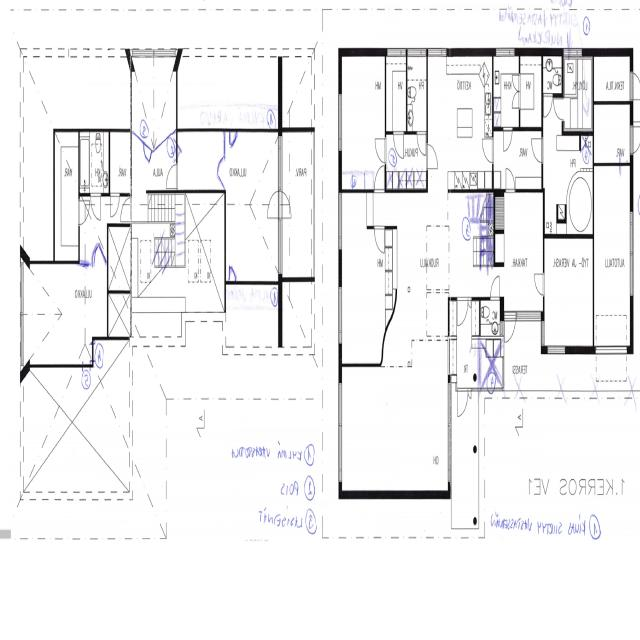door: (505, 311, 516, 348), (267, 191, 282, 218), (278, 191, 293, 218), (140, 140, 152, 172), (94, 234, 106, 264), (457, 297, 468, 326), (457, 388, 468, 416), (482, 139, 494, 163), (78, 201, 90, 225), (630, 127, 640, 154), (374, 226, 384, 253), (90, 193, 100, 220), (532, 138, 543, 162), (375, 138, 386, 162), (215, 163, 226, 187), (630, 73, 640, 99), (394, 132, 404, 158), (427, 145, 438, 168), (490, 276, 500, 300), (503, 127, 512, 153), (375, 166, 384, 192), (553, 99, 564, 120), (506, 169, 515, 193), (417, 132, 426, 156), (544, 93, 552, 118), (534, 275, 544, 295), (229, 262, 237, 285), (230, 128, 237, 151), (512, 75, 520, 92), (512, 92, 520, 108), (468, 297, 471, 308), (468, 388, 471, 399)
